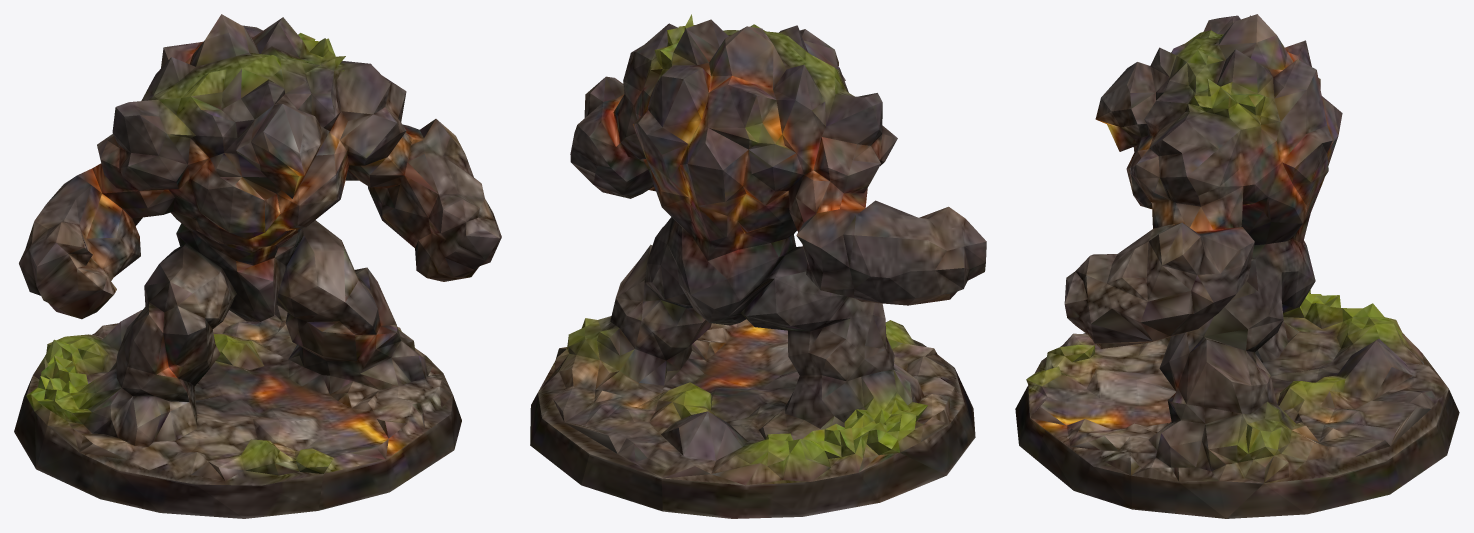
The model's file is elemental_earth_golem_lod1.glb.
3 views of the same model, side by side, from view 1: azimuth 30°, elevation 25°; view 2: azimuth 150°, elevation 25°; view 3: azimuth 270°, elevation 25° (orthographic).
Visible parts, largest first — view 1: elemental_earth_golem_lod1; view 2: elemental_earth_golem_lod1; view 3: elemental_earth_golem_lod1.
Boxes of the visible parts, x1=… form: elemental_earth_golem_lod1: x1=14, y1=14, x2=501, y2=518; elemental_earth_golem_lod1: x1=530, y1=14, x2=986, y2=518; elemental_earth_golem_lod1: x1=1015, y1=14, x2=1459, y2=518.
Size of the model in its own units: 2.59 by 2.4 by 2.37.
1 material, 1 textured.
